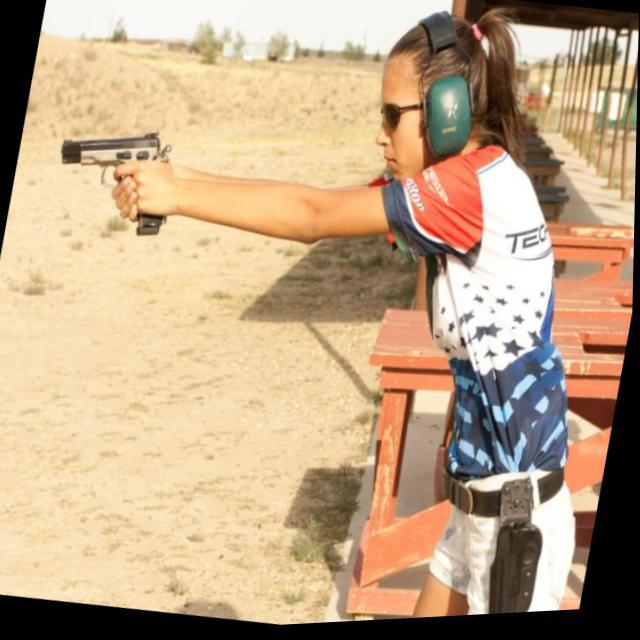weapon: (47, 115, 182, 244)
